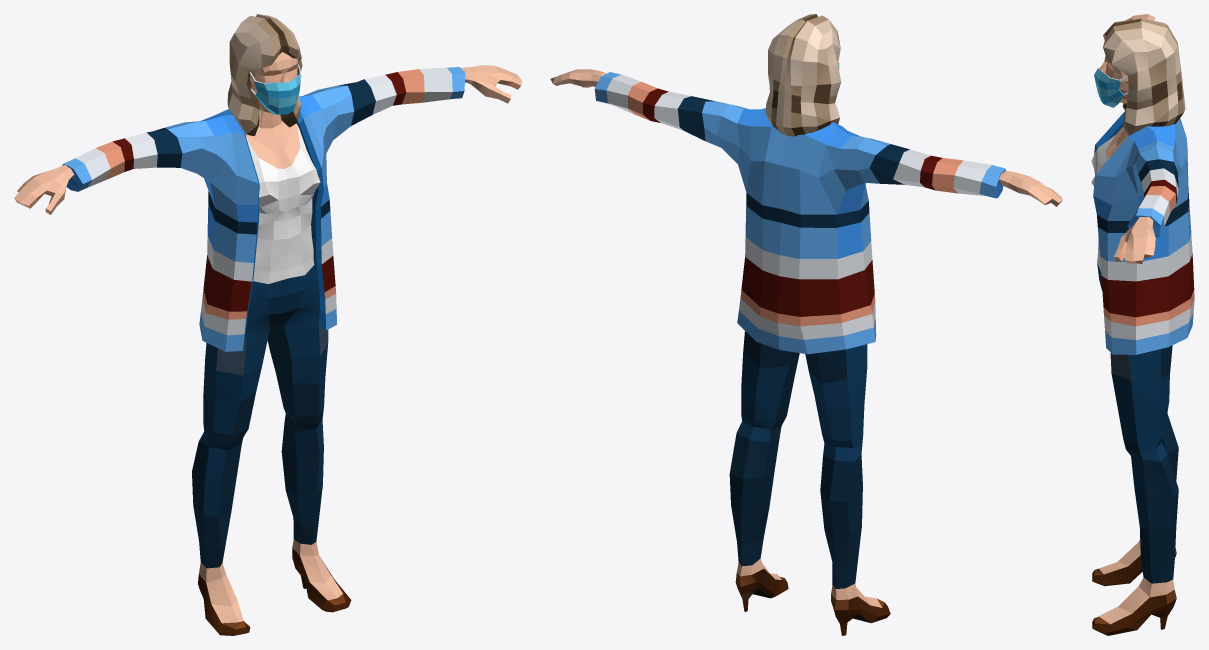
File: casual_Female_I-model.obj
3 views of the same model, side by side, from view 1: azimuth 30°, elevation 25°; view 2: azimuth 150°, elevation 25°; view 3: azimuth 270°, elevation 25° (orthographic).
Visible parts, largest first — view 1: casual_Female_I, acc_coat, acc_mask_blue; view 2: acc_coat, casual_Female_I; view 3: casual_Female_I, acc_coat, acc_mask_blue.
Boxes of the visible parts, x1,y1,x2,y2 form: casual_Female_I: [14, 14, 521, 635]; acc_coat: [62, 67, 465, 351]; acc_mask_blue: [249, 64, 300, 114]; acc_coat: [594, 72, 1005, 354]; casual_Female_I: [550, 14, 1062, 635]; casual_Female_I: [1091, 14, 1185, 635]; acc_coat: [1093, 111, 1194, 354]; acc_mask_blue: [1094, 65, 1128, 107].
Bounding box in the file's own units: 154 × 172 × 27.56.
